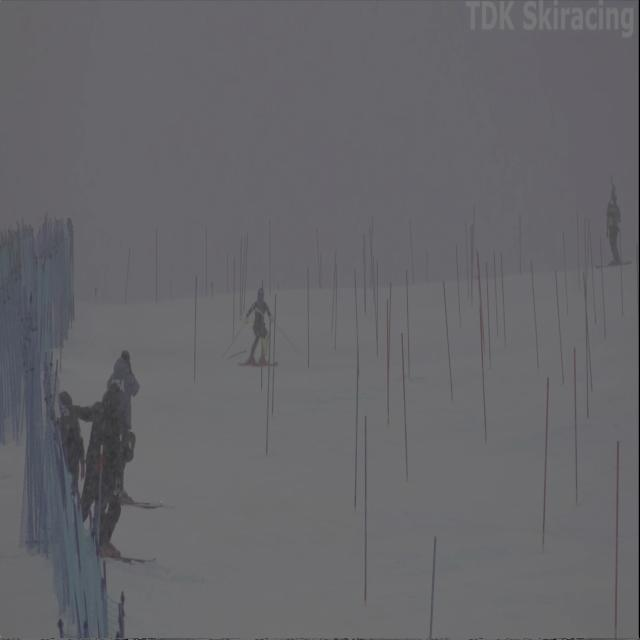gate: (606, 437, 622, 636), (580, 278, 600, 424), (394, 331, 412, 480), (540, 366, 553, 556), (438, 274, 456, 410), (359, 408, 371, 607), (550, 267, 570, 385), (422, 523, 441, 640), (475, 306, 490, 444), (570, 348, 582, 514), (400, 270, 417, 380), (526, 256, 542, 372), (351, 347, 361, 514), (302, 260, 316, 376), (271, 294, 283, 423), (594, 240, 609, 337), (478, 314, 487, 449), (190, 276, 201, 382), (369, 260, 381, 354), (499, 250, 509, 350), (151, 223, 162, 309), (266, 314, 272, 459), (200, 225, 210, 302), (491, 254, 500, 337), (230, 257, 238, 344), (329, 250, 337, 334), (124, 246, 134, 308), (332, 267, 339, 354)
